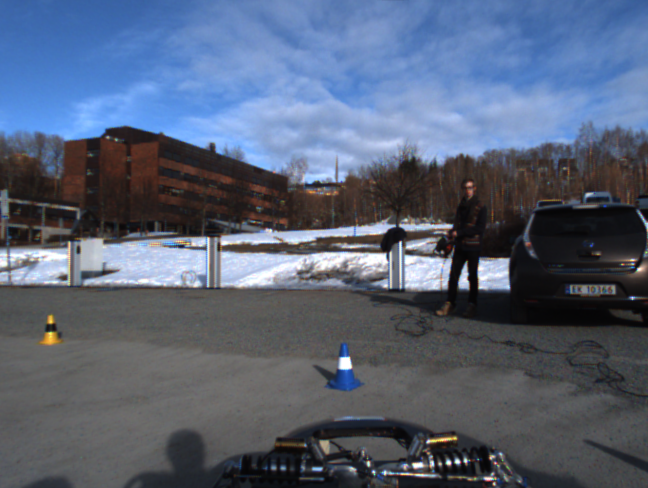cone-small-blue: (323, 343, 365, 391)
cone-small-yellow: (37, 314, 63, 345)
